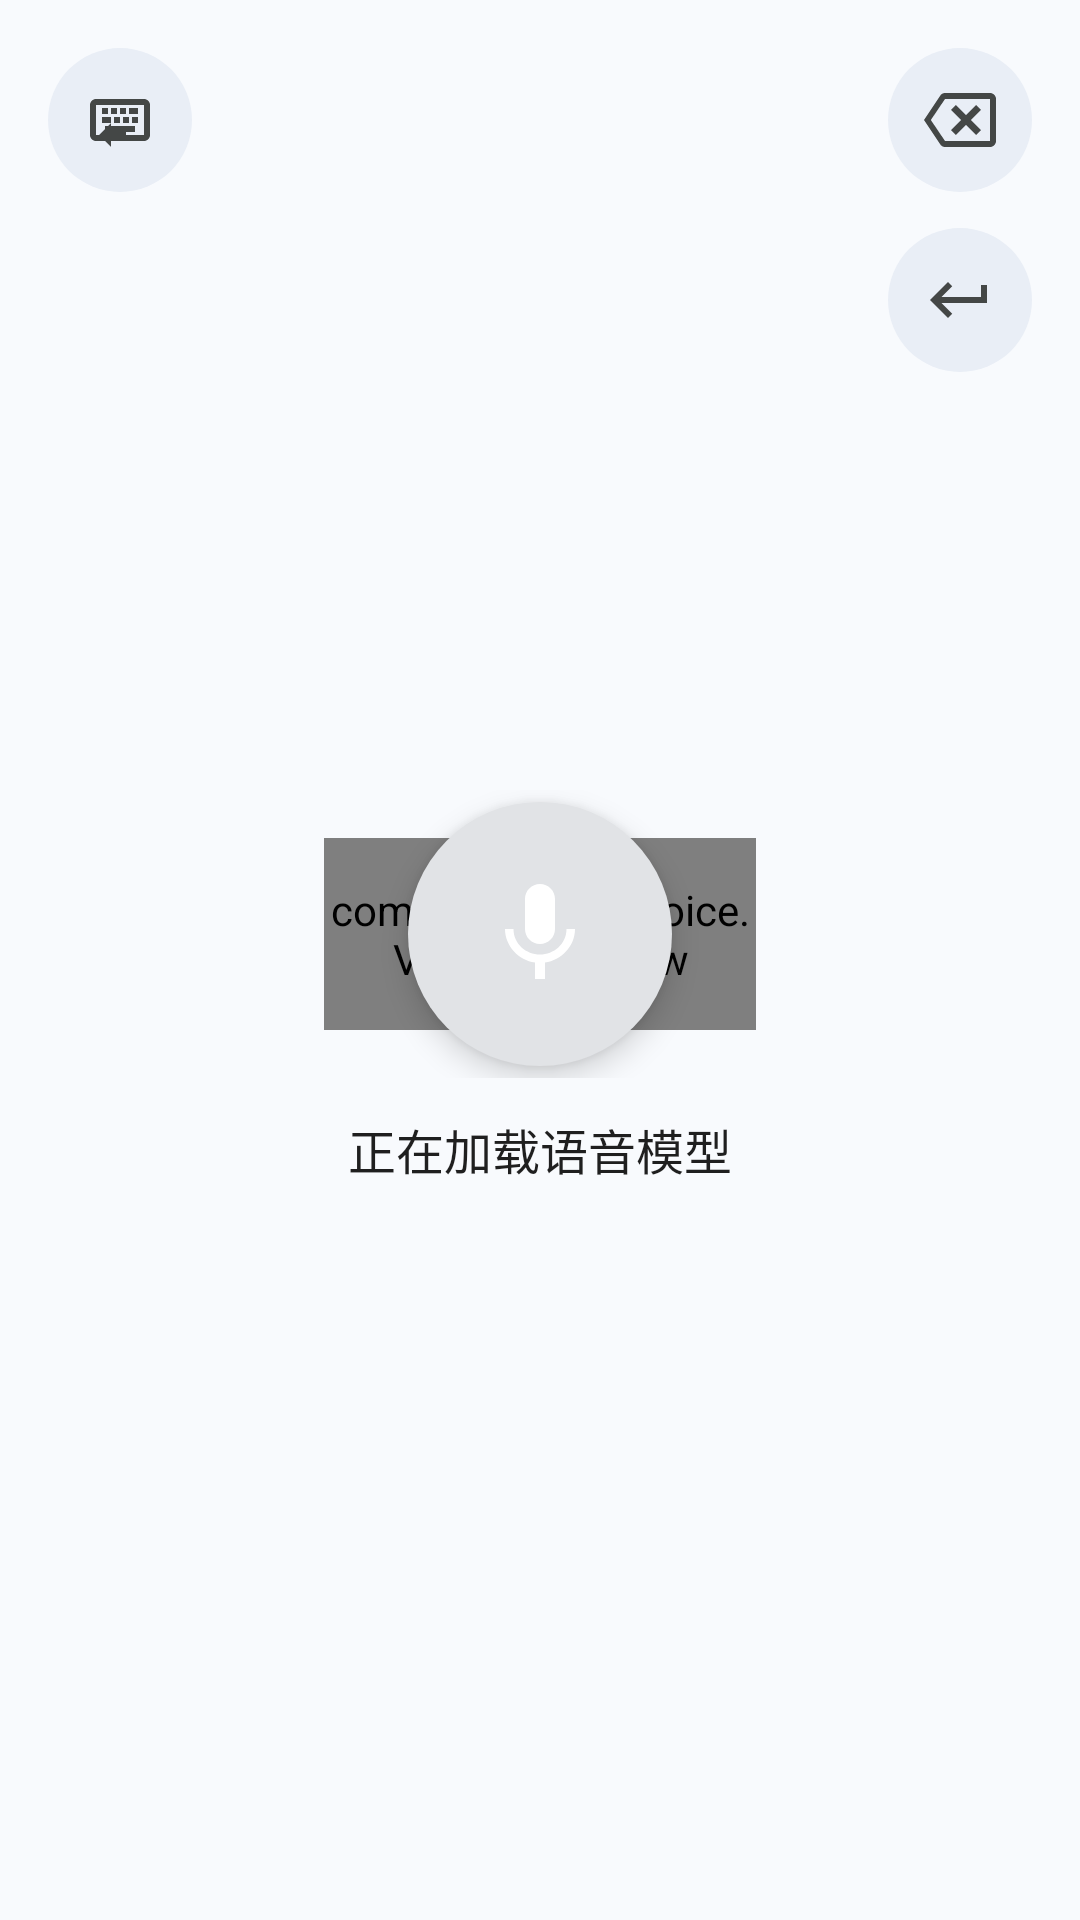

Icons on this 1080x1920 Android screen, each with the point to tap as (x=x, y=y):
删除上一个字符: (x=960, y=120)
发送或换行: (x=960, y=300)
语音识别处理中: (x=540, y=934)
返回原来的输入法: (x=120, y=123)
